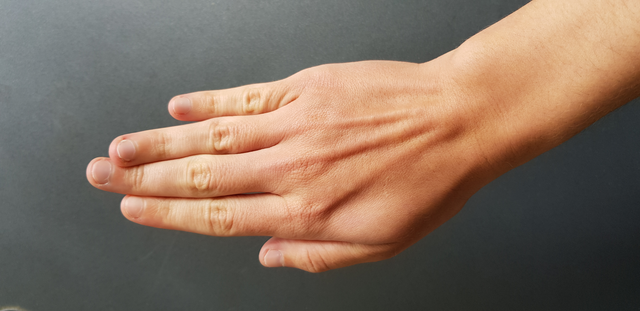Paper: (60, 49, 483, 280)
